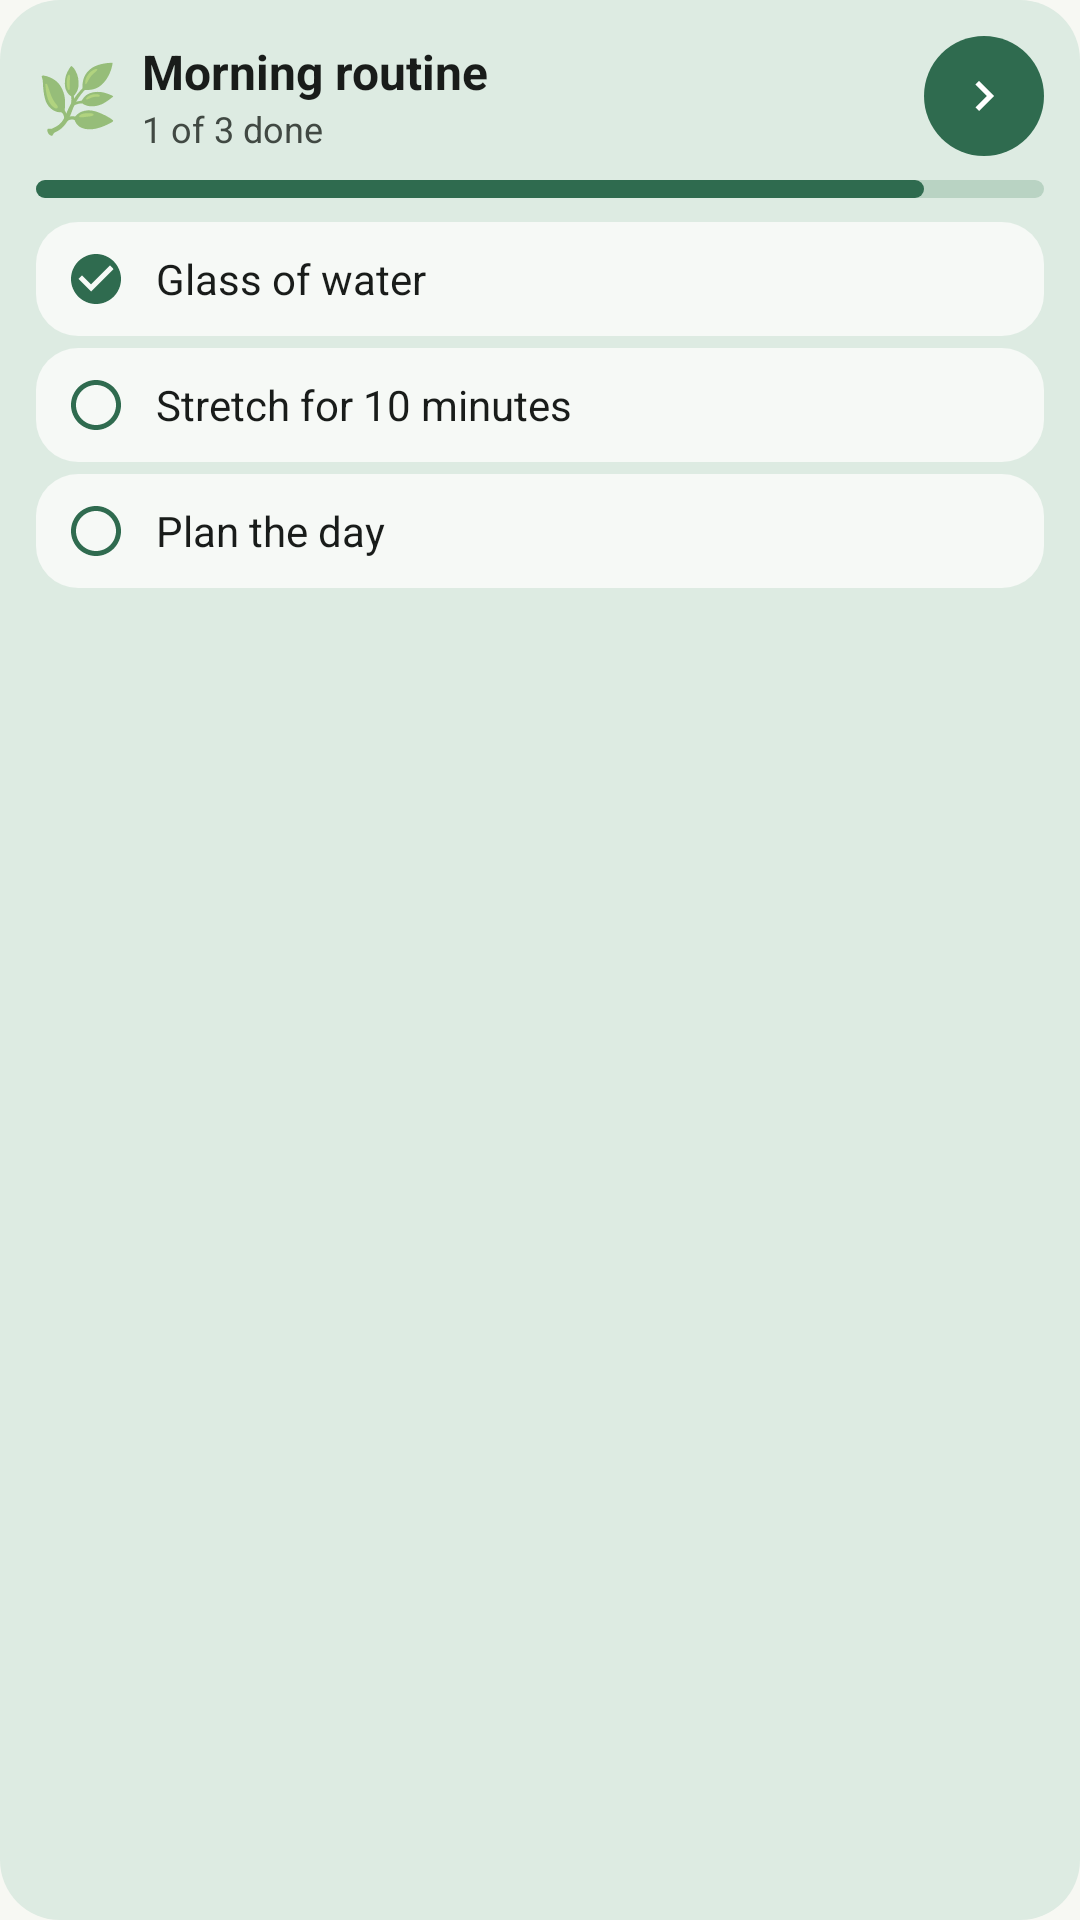

Icon bounding boxes for this 1080px×1920px phone screenshot, format [left=x1, top=y1, right=x2, bottom=y2]:
widget check circle: [left=71, top=254, right=121, bottom=304]
widget chevron: [left=975, top=81, right=994, bottom=111]
widget circle: [left=71, top=380, right=121, bottom=430], [left=71, top=506, right=121, bottom=556]
